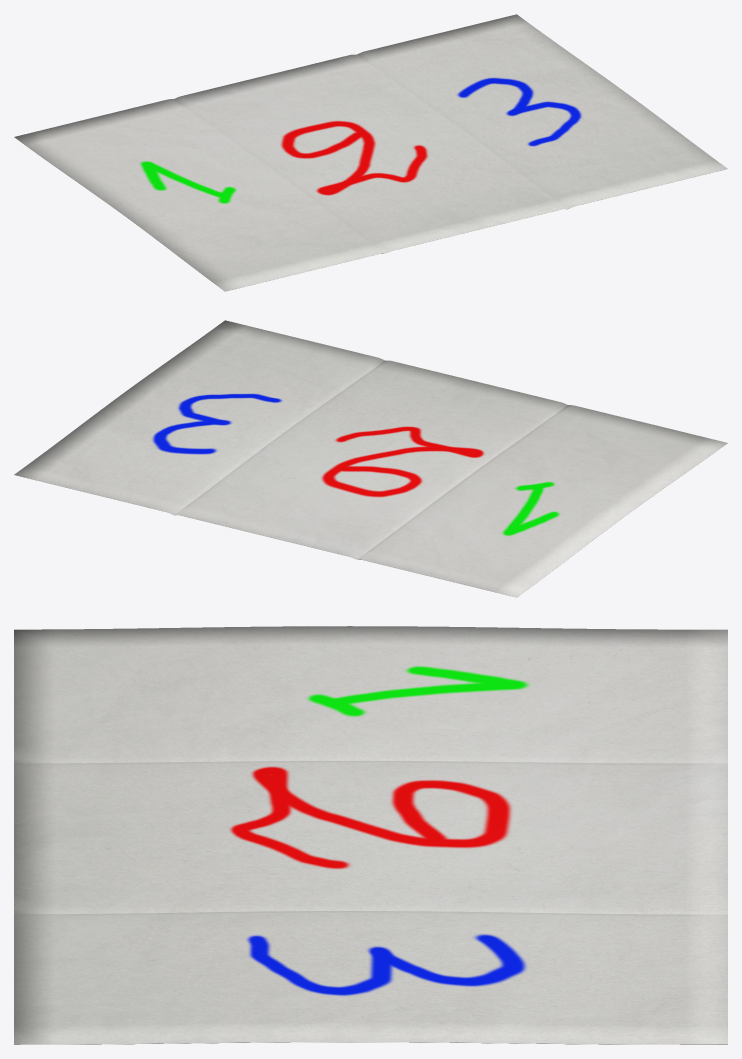
Rendered from paper.fbx.
The picture shows the model from 3 angles, top to bottom: view 1: azimuth 30°, elevation 25°; view 2: azimuth 150°, elevation 25°; view 3: azimuth 270°, elevation 25°; orthographic projection. The views are drawn at different scales.
Visible parts, largest first — view 1: Object_2; view 2: Object_2; view 3: Object_2.
Part boxes in pixels (x1,y1,x2,y2): Object_2: [14, 14, 727, 291]; Object_2: [14, 320, 727, 597]; Object_2: [14, 626, 727, 1044].
Size of the model in its own units: 335 by 2.69 by 244.
